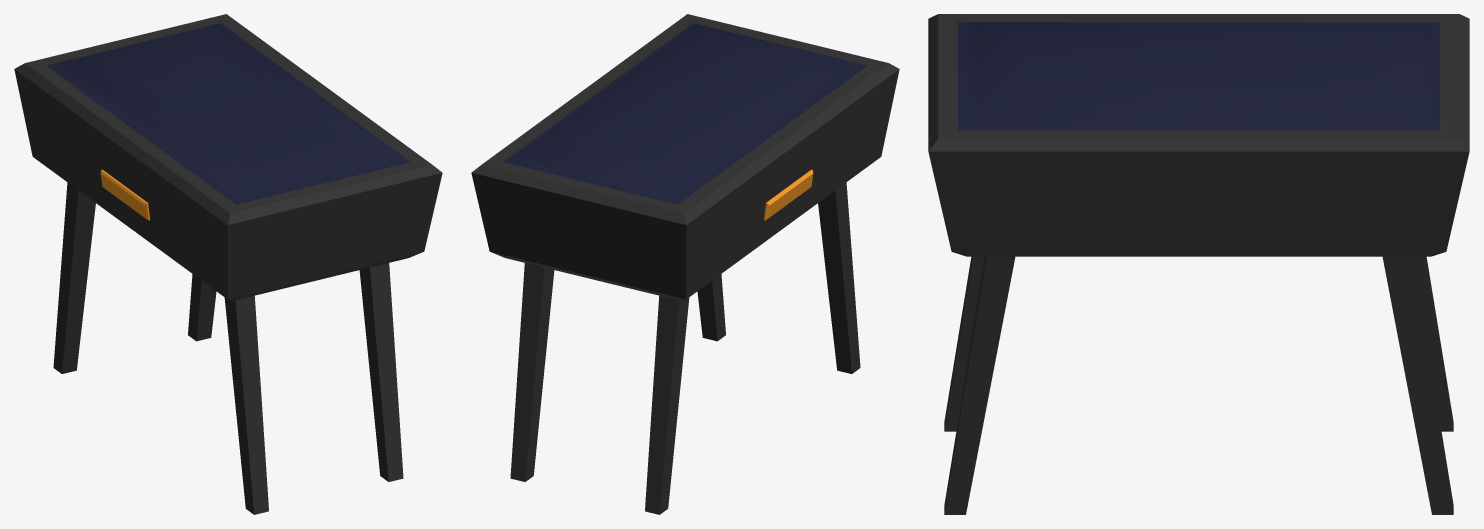
The model's file is Prop_PianoChair.FBX.
The picture shows the model from 3 angles, left to right: view 1: azimuth 30°, elevation 25°; view 2: azimuth 150°, elevation 25°; view 3: azimuth 270°, elevation 25°; orthographic projection. The views are drawn at different scales.
Visible parts, largest first — view 1: Box001; view 2: Box001; view 3: Box001.
Boxes of the visible parts, x1,y1,x2,y2 form: Box001: (14, 14, 442, 514); Box001: (471, 14, 899, 514); Box001: (928, 14, 1469, 514).
Size of the model in its own units: 32 by 55 by 46.
